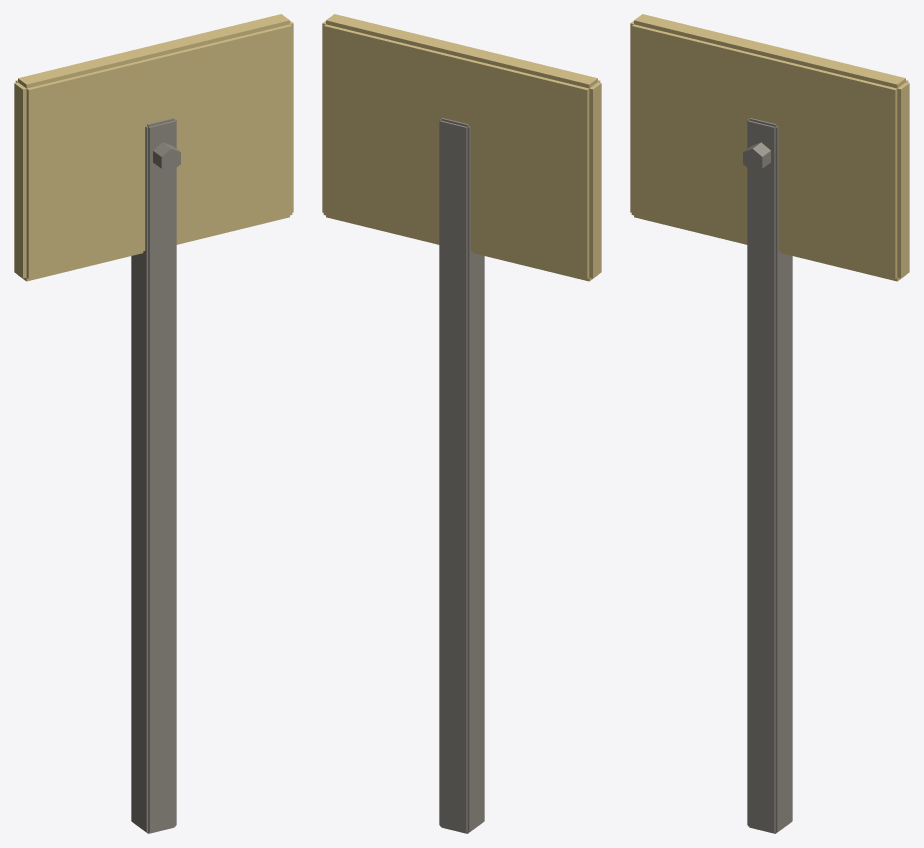
Rendered from sign.glb.
3 renders of one model, left to right at view 1: azimuth 30°, elevation 25°; view 2: azimuth 150°, elevation 25°; view 3: azimuth 330°, elevation 25°, orthographic.
Parts seen in each view (by area): view 1: Board, Pole, Bolt; view 2: Board, Pole; view 3: Board, Pole, Bolt.
Part boxes in pixels (x1,y1,x2,y2): Board: (14, 14, 293, 281); Pole: (131, 118, 176, 833); Bolt: (153, 142, 180, 172); Board: (322, 14, 601, 281); Pole: (439, 118, 484, 833); Board: (630, 14, 909, 281); Pole: (747, 118, 792, 833); Bolt: (743, 142, 770, 172).
Size of the model in its own units: 0.72 by 1.97 by 0.12.
